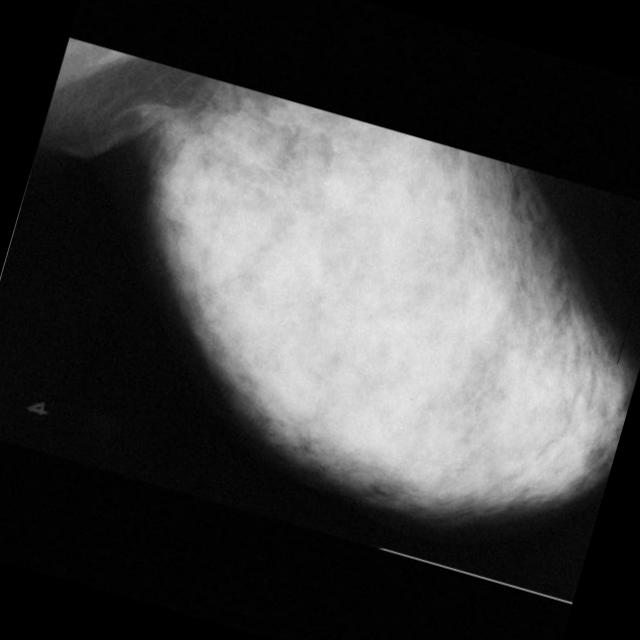CALC: (306, 156, 348, 200)
